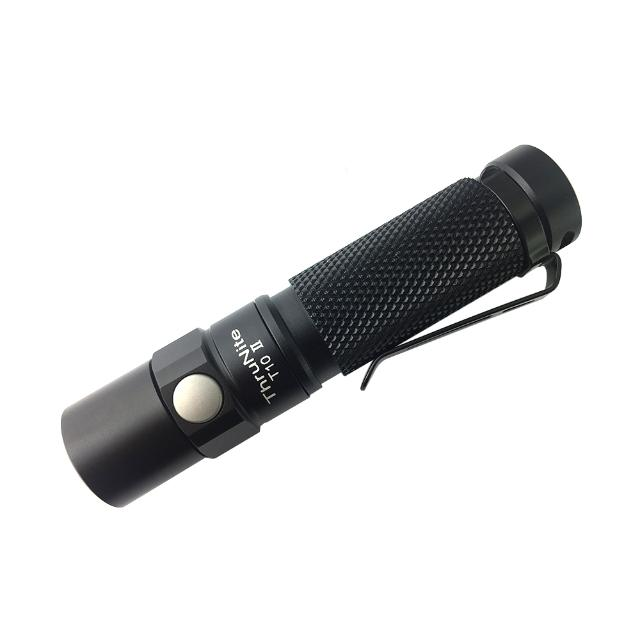Flashlight: (54, 136, 590, 514)
